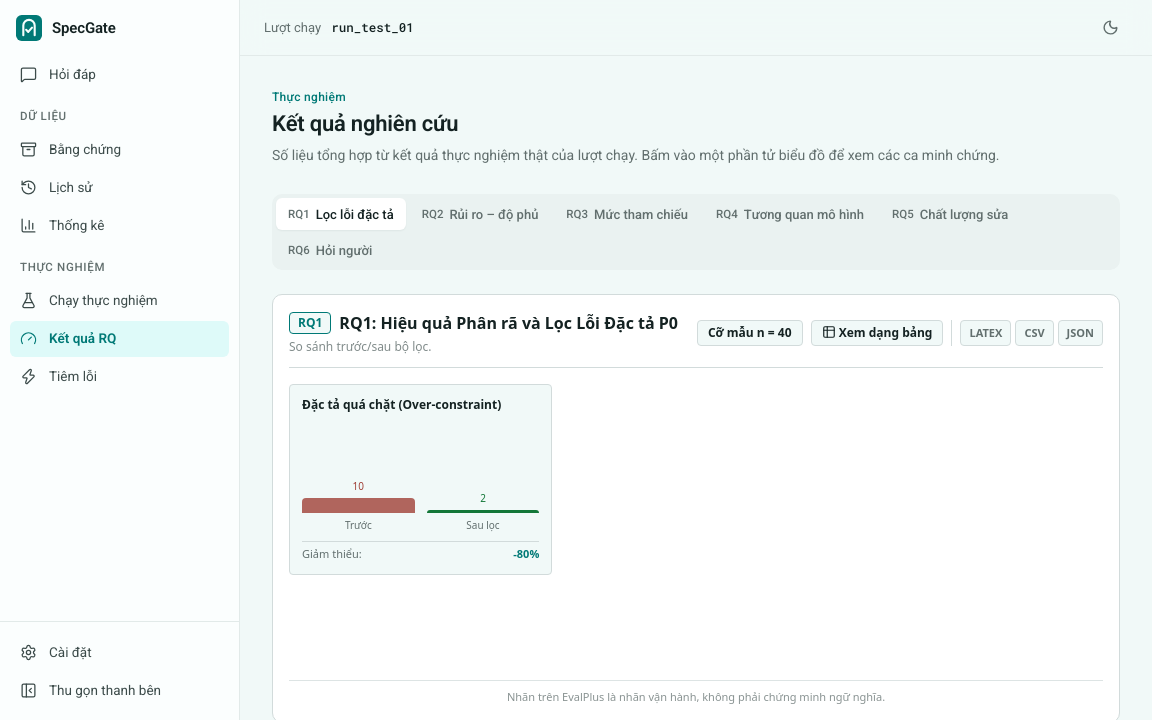
Test: Results Dashboard & Witness Interactivity UI › opens witness drawer with 'Mở Docket' link when a chart element is clicked
Click the element with test id "rq1-bar-0" at (421, 480), box [289,384,552,575]
(page scrolled)
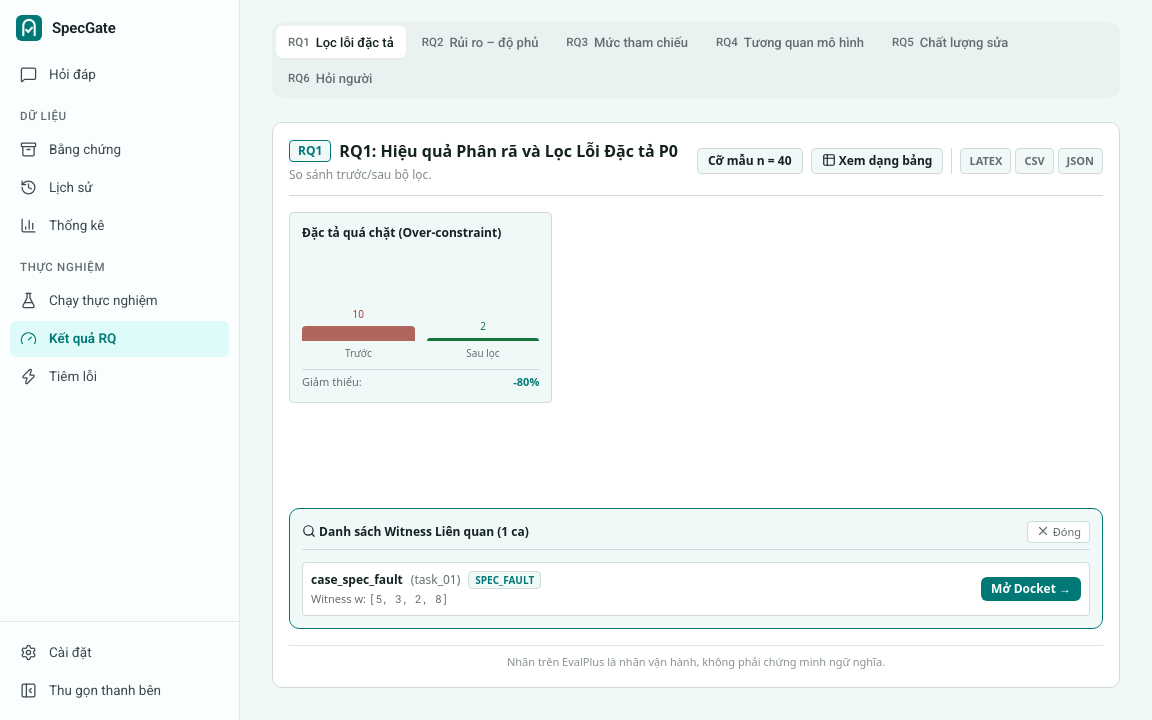
Now the element with test id "witness-drawer" is shown, box [289,508,1103,629]
Now the element with test id "witness-item-case_spec_fault" is shown, box [302,562,1090,616]
